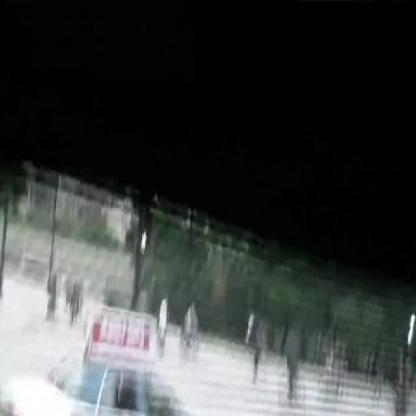other: (6, 283, 242, 408)
